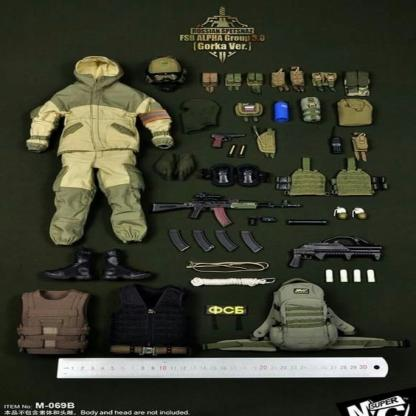Grenade: (210, 131, 245, 149), (352, 204, 369, 221), (333, 205, 350, 220)
Gun: (150, 191, 302, 228), (288, 233, 384, 272)
